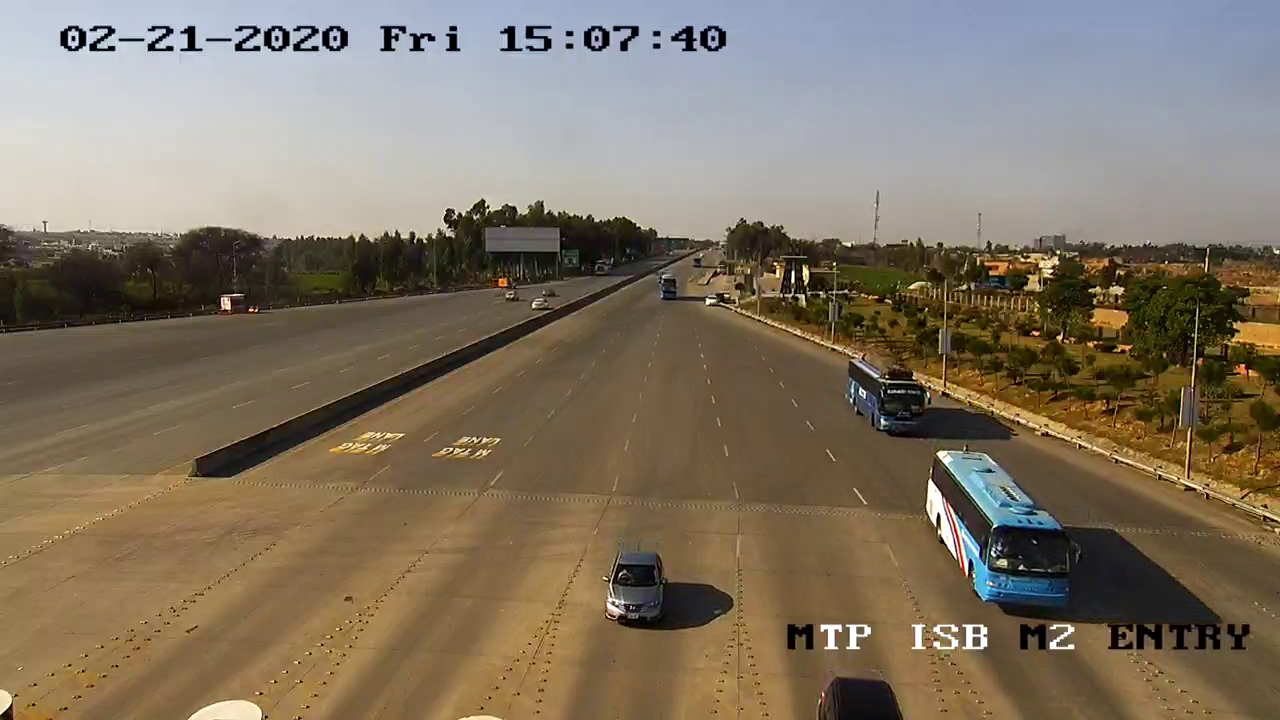f1: (588, 541, 677, 631)
f4: (917, 437, 1089, 617), (831, 341, 940, 446)
